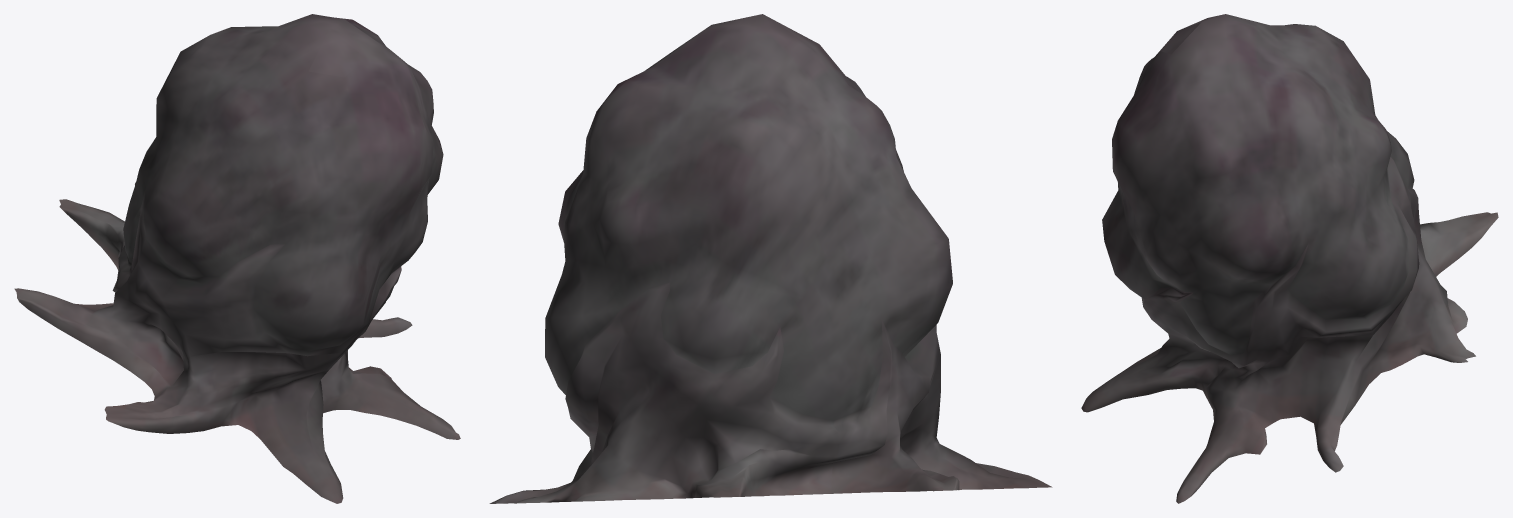
Rendered from Cocoon (28).fbx.
The picture shows the model from 3 angles, left to right: view 1: azimuth 30°, elevation 25°; view 2: azimuth 150°, elevation 25°; view 3: azimuth 270°, elevation 25°; orthographic projection. The views are drawn at different scales.
Visible parts, largest first — view 1: Egg; view 2: Egg; view 3: Egg.
Part boxes in pixels (box(x1,y1,x2,y2)): Egg: box(14, 14, 460, 503); Egg: box(489, 14, 1052, 503); Egg: box(1081, 14, 1498, 503).
Bounding box in the file's own units: 1.57 × 1.67 × 1.49.
1 material, 1 textured.
